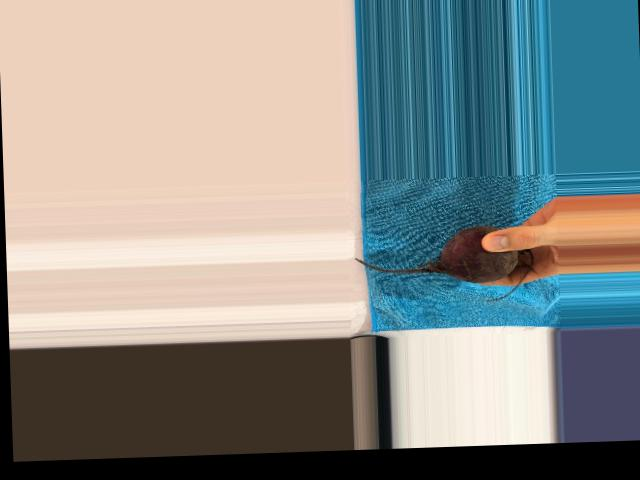beet: (353, 223, 534, 304)
